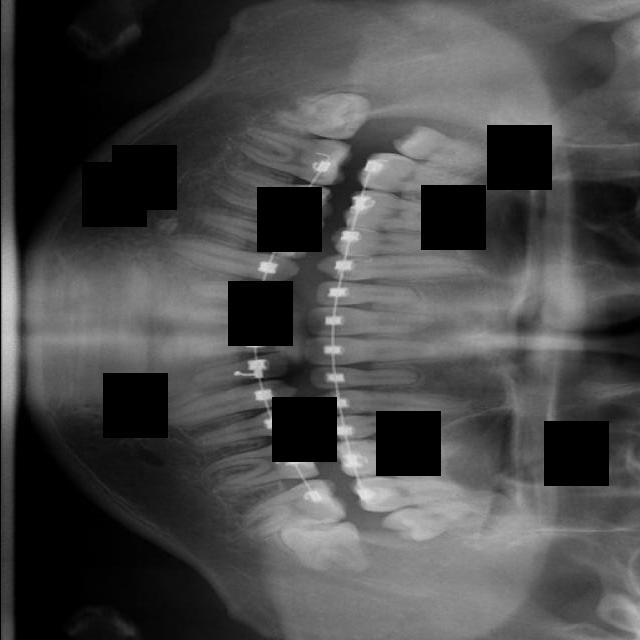3M ESPE Implant: (391, 123, 500, 169)
73: (60, 612, 74, 624)
BioHorizons Implant: (349, 476, 464, 513)
BioLife Implant: (378, 494, 479, 549)
Biomet 3i Implant: (278, 518, 371, 575)
Blue Sky Bio Implant: (233, 473, 350, 542)
Caries: (354, 149, 486, 201)
Implant: (231, 120, 353, 190)
Keystone Dental Implant: (272, 80, 372, 145)
